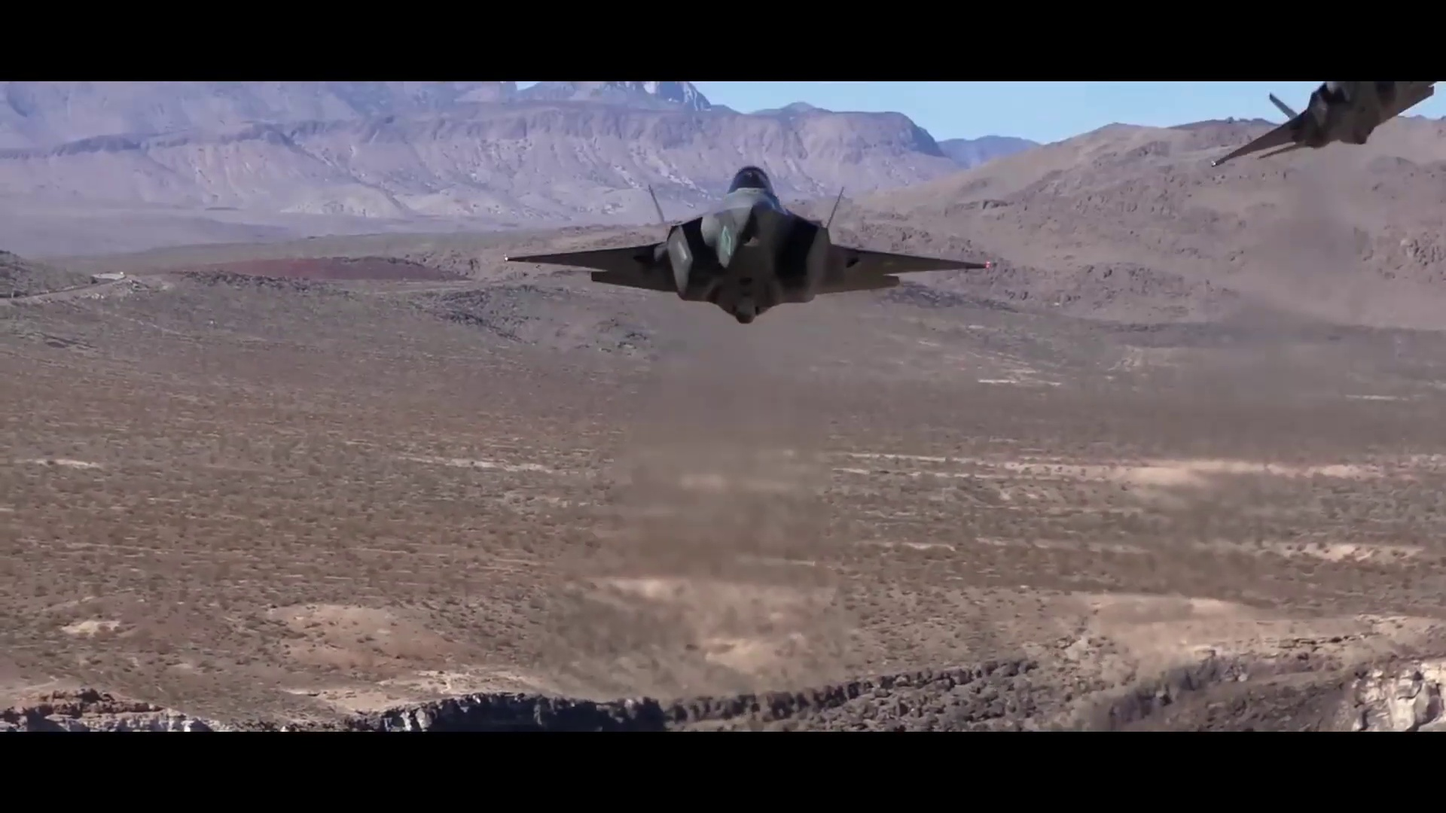F35: (504, 164, 983, 327), (1210, 76, 1436, 166)
